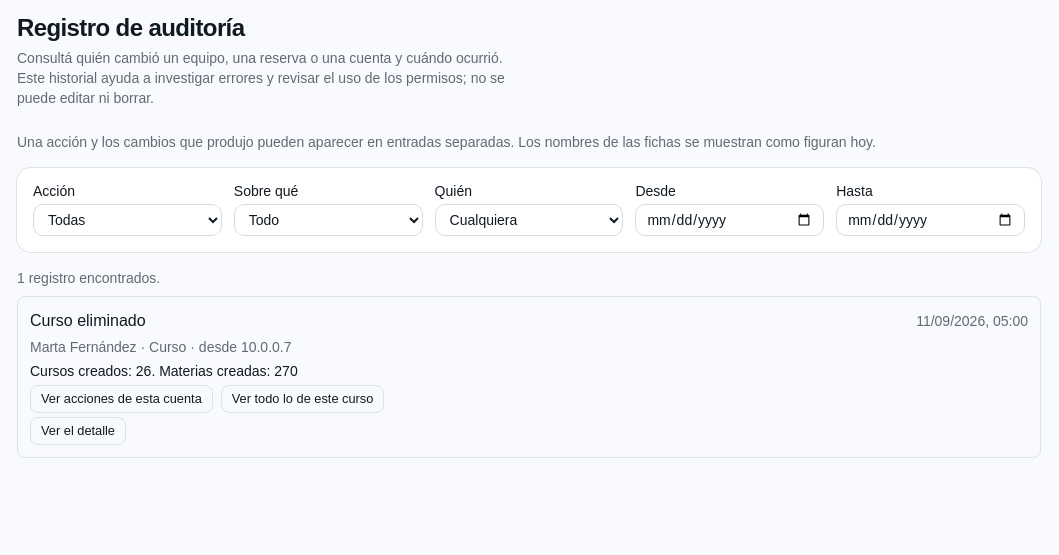
Test case: AuditoriaPage › despliega el detalle de la acción con etiquetas comprensibles
The image size is (1059, 555).
Click the button "Ver el detalle": (78, 431) [30, 417, 126, 445]
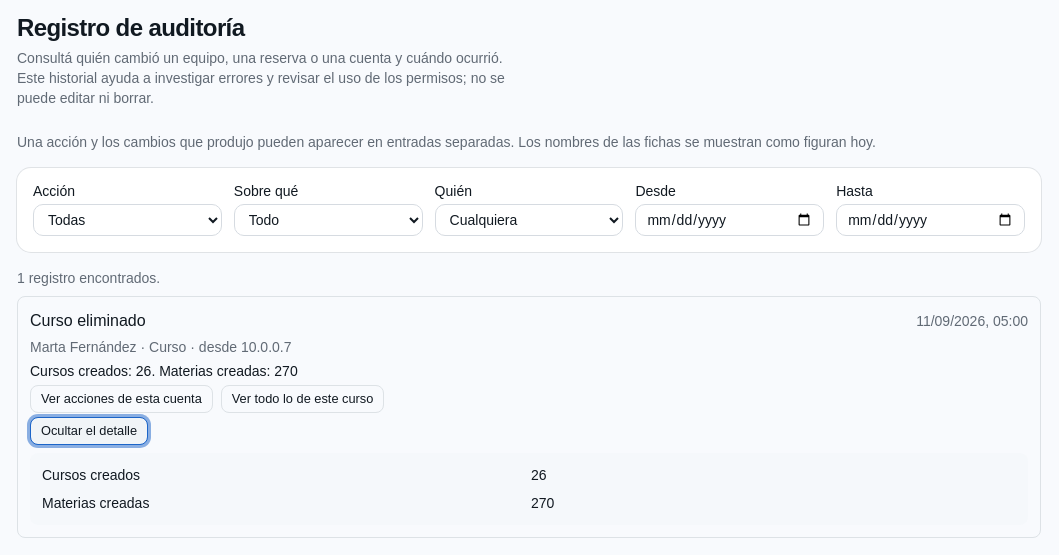
Expected: the text "Cursos creados" is shown, [42, 467, 140, 483]
Expected: the text "Materias creadas" is shown, [42, 495, 149, 511]
Expected: the text "270" is shown, [531, 495, 554, 511]
